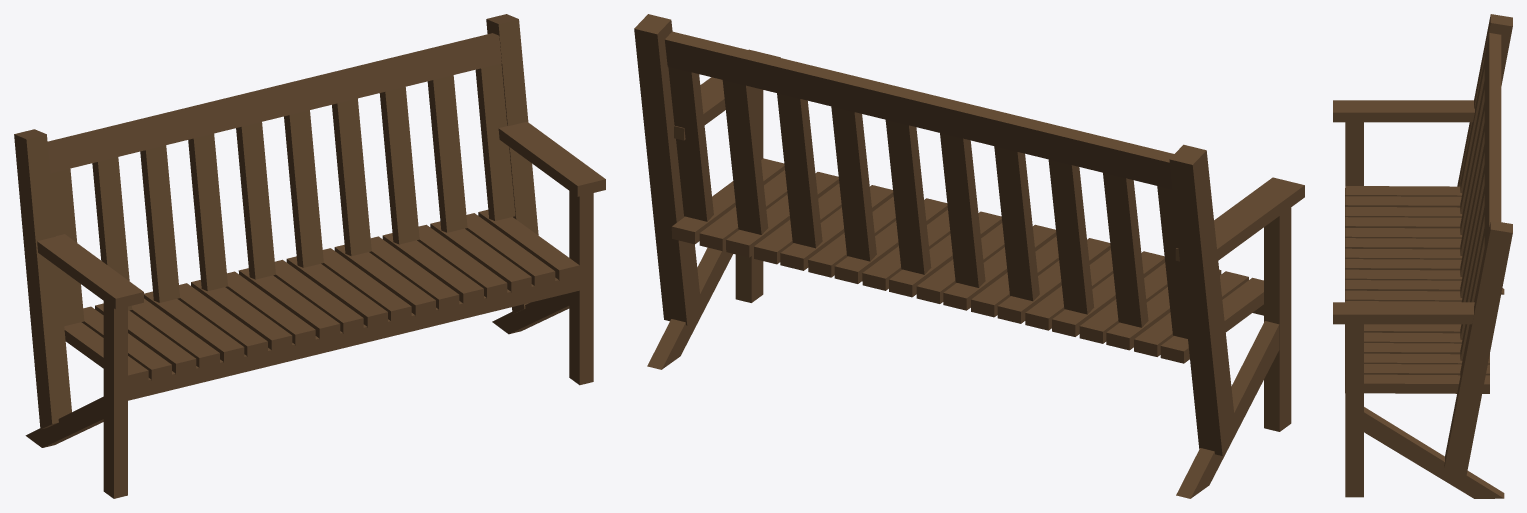
The model's file is TT_Bench.fbx.
The picture shows the model from 3 angles, left to right: view 1: azimuth 30°, elevation 25°; view 2: azimuth 150°, elevation 25°; view 3: azimuth 270°, elevation 25°; orthographic projection. The views are drawn at different scales.
Visible parts, largest first — view 1: British_bench; view 2: British_bench; view 3: British_bench.
Boxes of the visible parts, left/top/right/bottom form: British_bench: left=14, top=14, right=605, bottom=498; British_bench: left=634, top=14, right=1304, bottom=498; British_bench: left=1333, top=14, right=1512, bottom=498.
Size of the model in its own units: 167 by 98.66 by 59.03.
